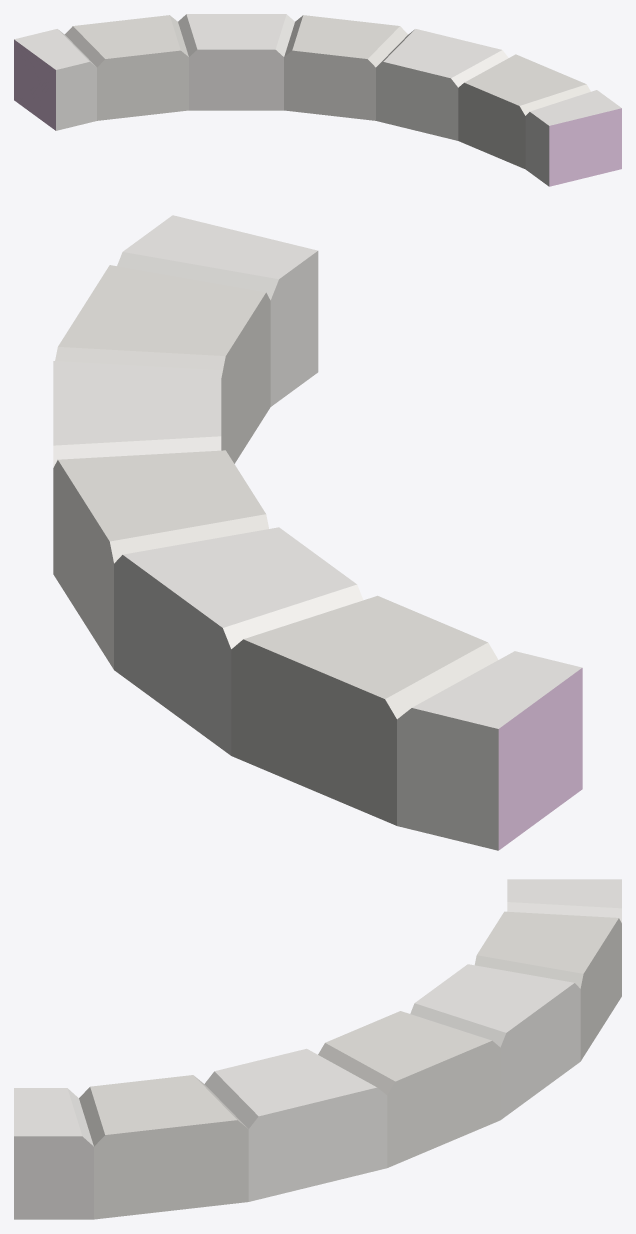
The model's file is Path_Edging_Stones_Curve_2x2.glb.
3 views of the same model, one above another, from view 1: azimuth 30°, elevation 25°; view 2: azimuth 150°, elevation 25°; view 3: azimuth 270°, elevation 25° (orthographic). The views are drawn at different scales.
Parts seen in each view (by area): view 1: Path_Edging_Stones_Curve_2x2; view 2: Path_Edging_Stones_Curve_2x2; view 3: Path_Edging_Stones_Curve_2x2.
Part boxes in pixels (box(x1,y1,x2,y2)): Path_Edging_Stones_Curve_2x2: box(14, 14, 621, 186); Path_Edging_Stones_Curve_2x2: box(53, 215, 582, 850); Path_Edging_Stones_Curve_2x2: box(14, 879, 621, 1219).
Size of the model in its own units: 166 by 25 by 166.
